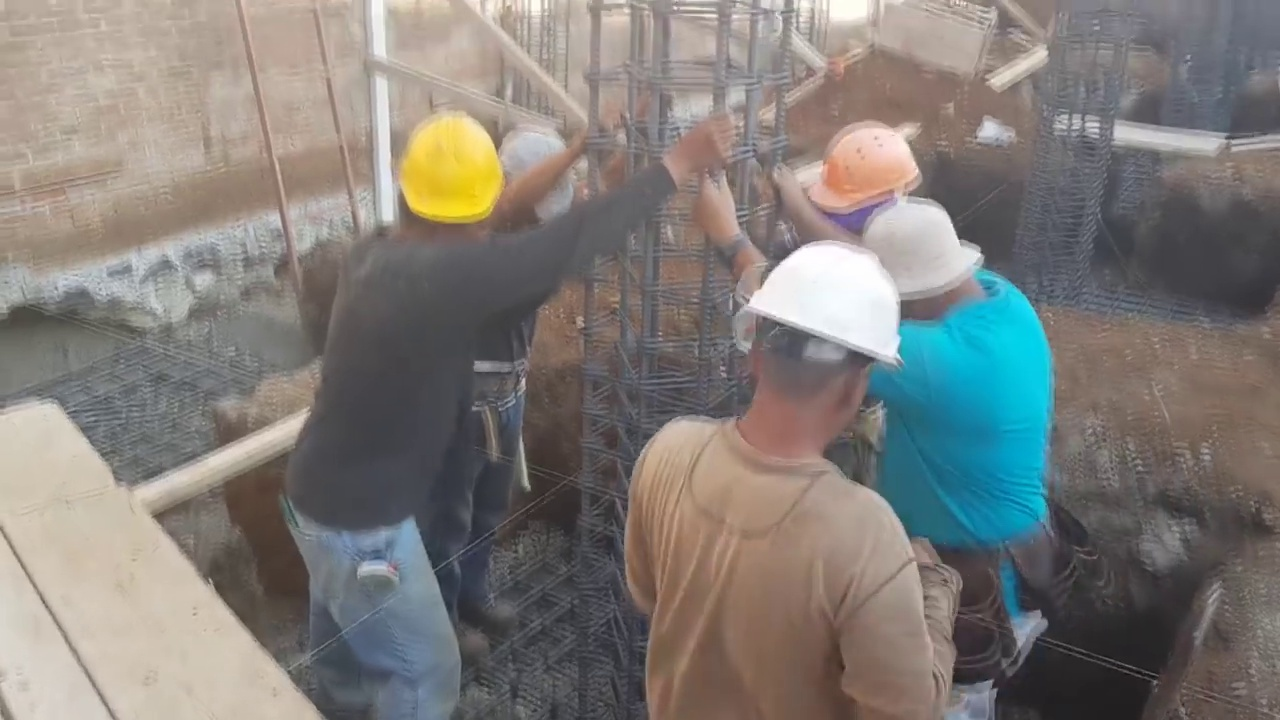helmet: (748, 243, 905, 375), (398, 106, 502, 224), (808, 118, 923, 213)
helmet-off: (859, 202, 996, 327), (503, 126, 579, 230)
helmet-on: (715, 239, 907, 465), (369, 110, 499, 252)
person: (273, 108, 738, 719), (700, 171, 1062, 719), (627, 250, 967, 718), (423, 114, 595, 662)
